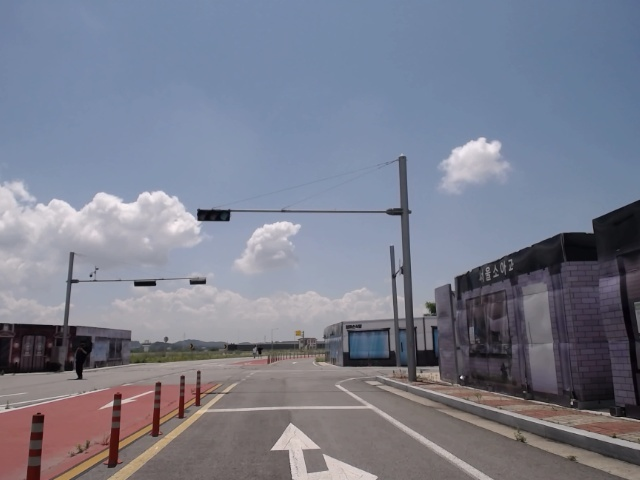green_3: (198, 210, 230, 221)
